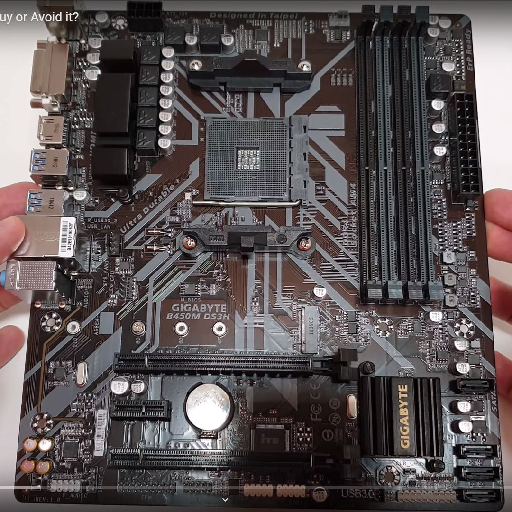CPU: (188, 99, 312, 246)
GPU: (105, 442, 362, 485), (112, 348, 360, 383)
MOTHERBOARD: (13, 4, 504, 512)
RAM: (354, 6, 447, 302)
SSD: (291, 305, 324, 355)
